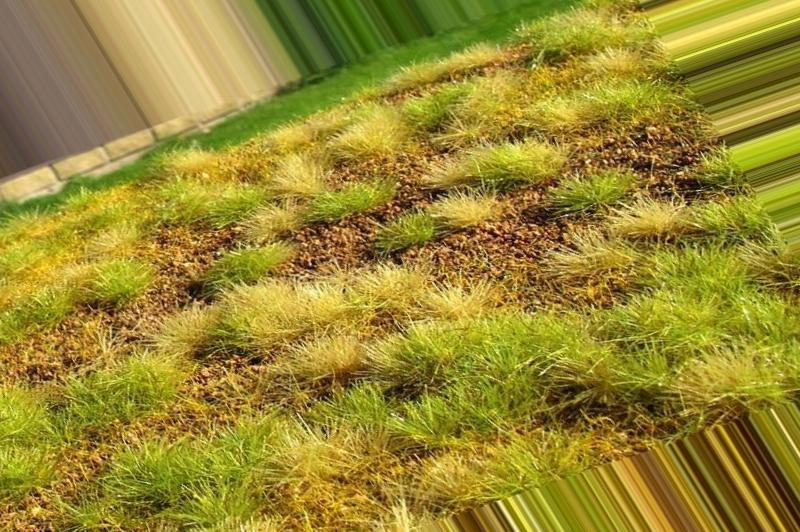patch: (199, 266, 451, 359), (458, 195, 616, 301), (29, 315, 189, 381), (589, 116, 692, 184)
